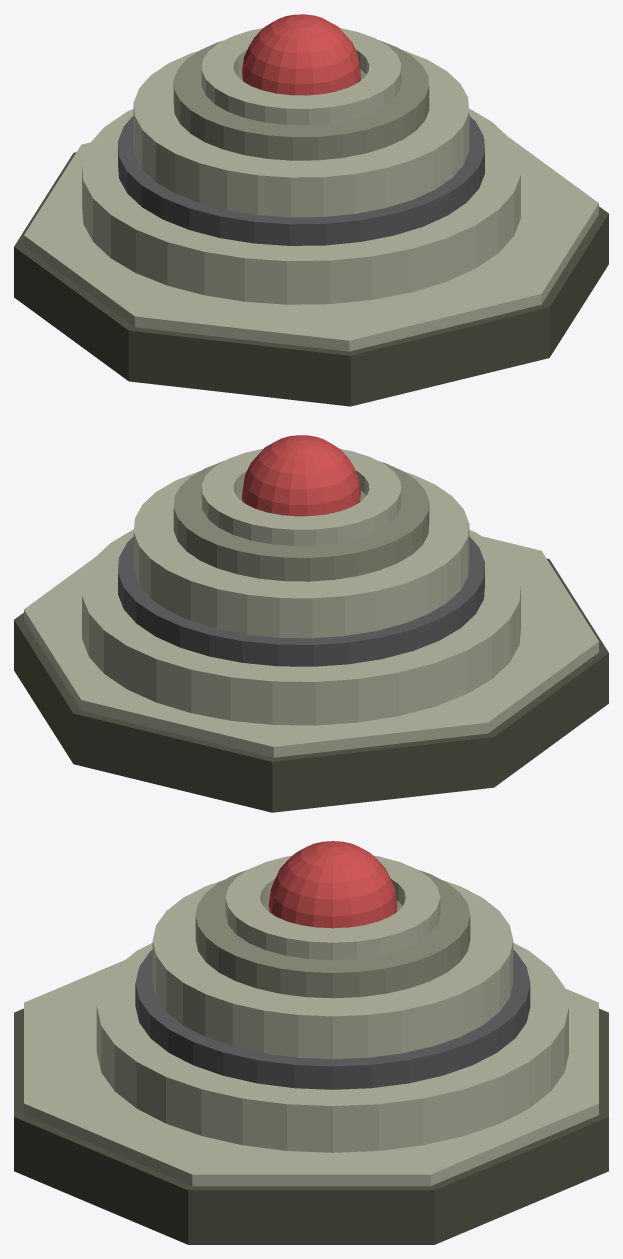
Rendered from vge_mech_amplifier.obj.
3 renders of one model, top to bottom at view 1: azimuth 30°, elevation 25°; view 2: azimuth 150°, elevation 25°; view 3: azimuth 270°, elevation 25°, orthographic. The views are drawn at different scales.
Parts seen in each view (by area): view 1: vge_mech_amplifier_0, vge_mech_amplifier_1, vge_mech_amplifier_2, vge_mech_amplifier_4, vge_mech_amplifier_3, vge_mech_amplifier_5, vge_mech_amplifier_6, vge_mech_amplifier_7; view 2: vge_mech_amplifier_0, vge_mech_amplifier_2, vge_mech_amplifier_1, vge_mech_amplifier_4, vge_mech_amplifier_3, vge_mech_amplifier_5, vge_mech_amplifier_6, vge_mech_amplifier_7; view 3: vge_mech_amplifier_0, vge_mech_amplifier_2, vge_mech_amplifier_1, vge_mech_amplifier_4, vge_mech_amplifier_3, vge_mech_amplifier_5, vge_mech_amplifier_6, vge_mech_amplifier_7.
Boxes of the visible parts, x1,y1,x2,y2 form: vge_mech_amplifier_0: (14,152,608,406); vge_mech_amplifier_1: (24,137,598,351); vge_mech_amplifier_2: (82,108,520,304); vge_mech_amplifier_4: (133,50,469,217); vge_mech_amplifier_3: (118,116,484,245); vge_mech_amplifier_5: (173,40,429,160); vge_mech_amplifier_6: (201,28,401,125); vge_mech_amplifier_7: (242,14,360,95); vge_mech_amplifier_0: (14,558,608,812); vge_mech_amplifier_2: (82,529,520,725); vge_mech_amplifier_1: (24,529,598,757); vge_mech_amplifier_4: (133,471,469,638); vge_mech_amplifier_3: (118,536,484,666); vge_mech_amplifier_5: (173,460,429,581); vge_mech_amplifier_6: (201,448,401,545); vge_mech_amplifier_7: (242,435,360,516); vge_mech_amplifier_0: (14,1008,608,1244); vge_mech_amplifier_2: (96,943,568,1152); vge_mech_amplifier_1: (24,960,598,1186); vge_mech_amplifier_4: (152,880,513,1059); vge_mech_amplifier_3: (135,949,530,1089); vge_mech_amplifier_5: (195,869,470,998); vge_mech_amplifier_6: (225,855,440,960); vge_mech_amplifier_7: (268,841,397,928).
Size of the model in its own units: 2.77 by 1.4 by 2.77.
